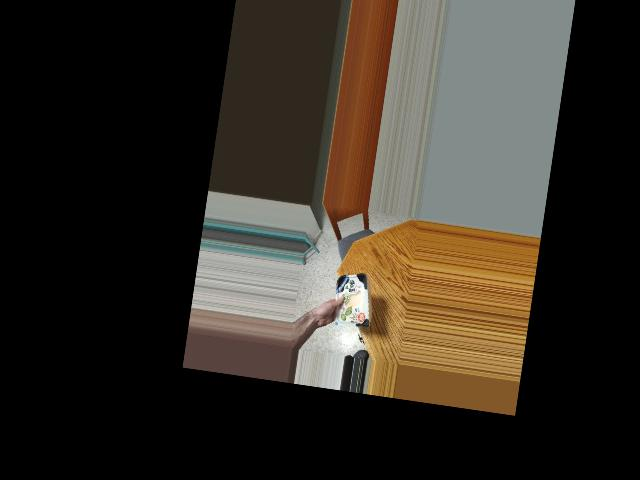cheese: (329, 270, 377, 329)
